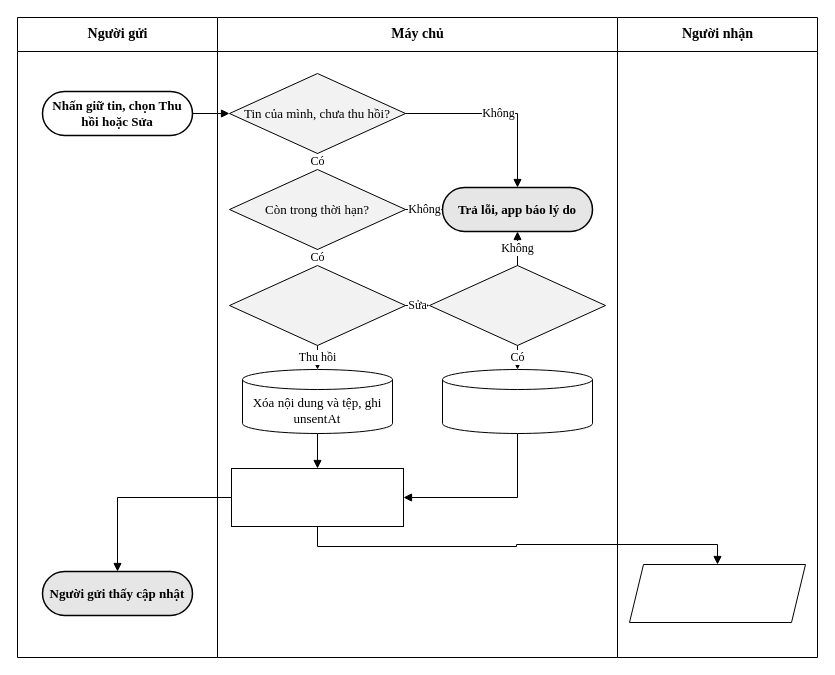
Image size: 835x675. Some labels were removed from this diagram. The shapes that lost their labels are listed below. From the top down, each one's centre as x and y in pixels, then its label:
At [317,305]: "Thu hồi hay sửa?".
At [517,305]: "Nội dung mới hợp lệ?".
At [517,401]: "Lưu bản cũ vào MessageEdit".
At [317,497]: "Socket message:updated cho hai bên".
At [717,593]: "Thấy “Tin đã thu hồi” hoặc “(đã sửa)”".
